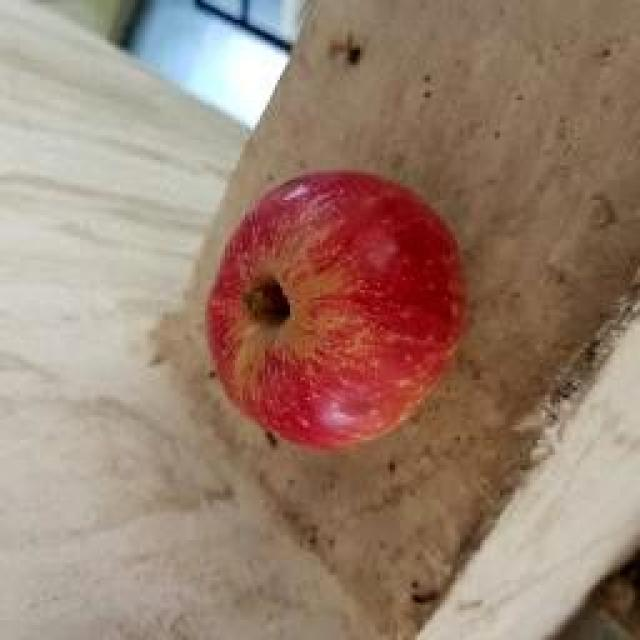Good_Apple: (185, 168, 472, 460)
